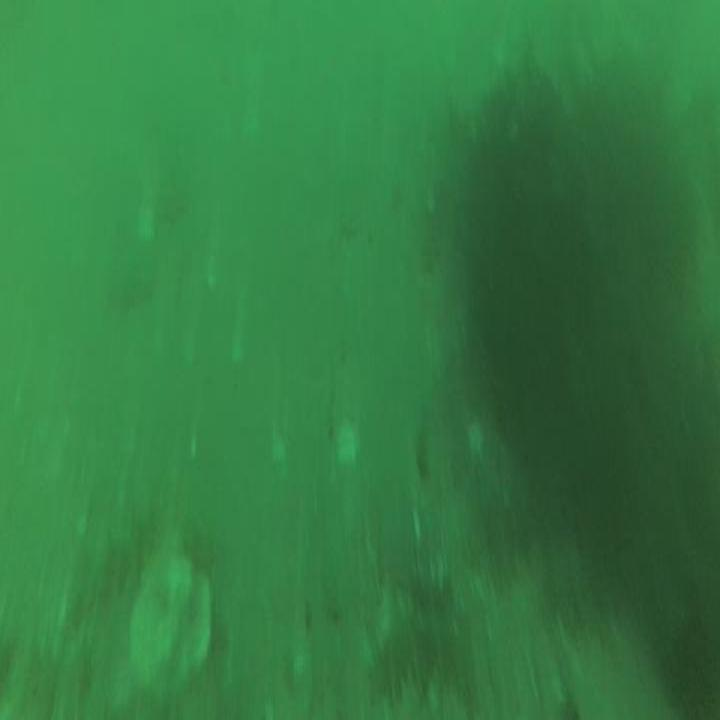holothurian: (367, 613, 474, 699), (83, 508, 162, 610)
scallop: (128, 538, 214, 701)
